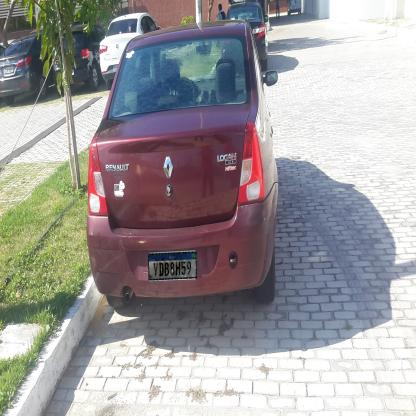PlacaM: (148, 251, 197, 280)
